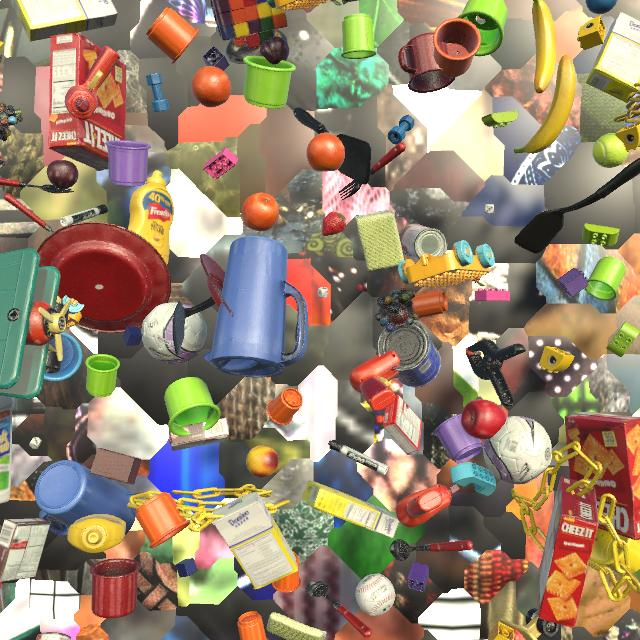ycb_002_master_chef_can: (377, 322, 441, 387)
ycb_003_cracker_box: (49, 33, 126, 170), (565, 412, 640, 540), (538, 476, 599, 628)
ycb_004_sugar_box: (213, 491, 298, 589), (302, 480, 400, 539), (586, 12, 640, 103), (11, 0, 118, 42)
ycb_005_tomato_soup_can: (399, 223, 446, 259), (36, 632, 71, 640), (0, 152, 5, 168)
ycb_006_mustard_bottle: (128, 170, 174, 265), (68, 514, 126, 553)
ycb_008_pudding_box: (0, 518, 51, 582), (169, 417, 229, 451)
ycb_009_gelatin_box: (383, 395, 422, 454)
ycb_010_potted_meat_can: (342, 0, 359, 5)
ycb_011_banana: (514, 55, 576, 154), (532, 0, 556, 94)
ycb_012_strawberry: (322, 211, 346, 236)
ycb_013_apple: (461, 399, 506, 439)
ycb_015_peach: (246, 445, 279, 478)
ycb_017_orange: (191, 66, 231, 108), (306, 133, 345, 172), (242, 193, 279, 232)
ycb_018_plum: (47, 160, 78, 190), (260, 36, 289, 65)
